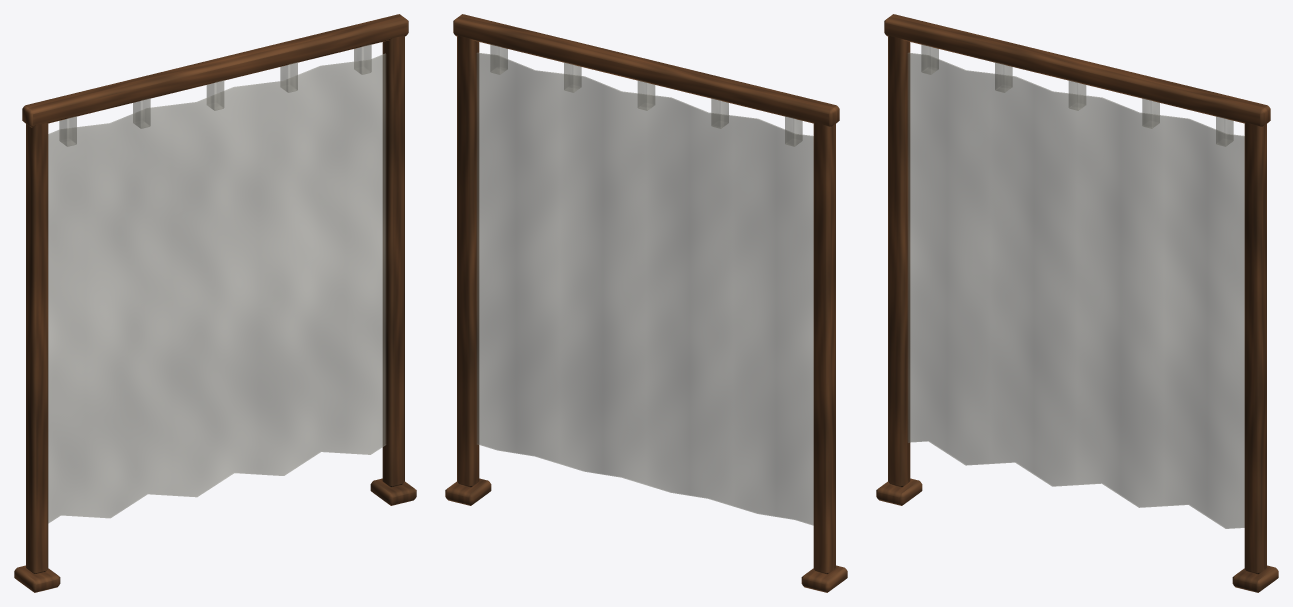
File: Furn_Moment_CurtainScreen.fbx
3 views of the same model, side by side, from view 1: azimuth 30°, elevation 25°; view 2: azimuth 150°, elevation 25°; view 3: azimuth 330°, elevation 25° (orthographic).
Visible parts, largest first — view 1: Furn_Moment_CurtainScreen; view 2: Furn_Moment_CurtainScreen; view 3: Furn_Moment_CurtainScreen.
Boxes of the visible parts, x1,y1,x2,y2 form: Furn_Moment_CurtainScreen: (14,14,416,592); Furn_Moment_CurtainScreen: (445,14,847,592); Furn_Moment_CurtainScreen: (876,14,1278,592).
Size of the model in its own units: 1.6 by 1.9 by 0.15.
2 materials, 2 textured.
